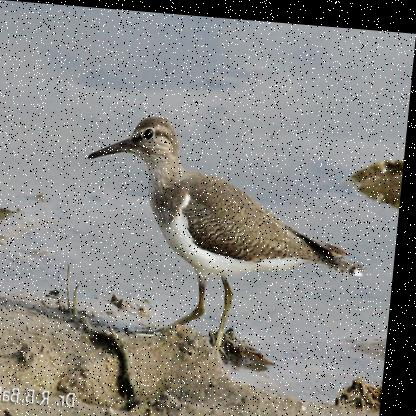Burung: (76, 111, 381, 357)
